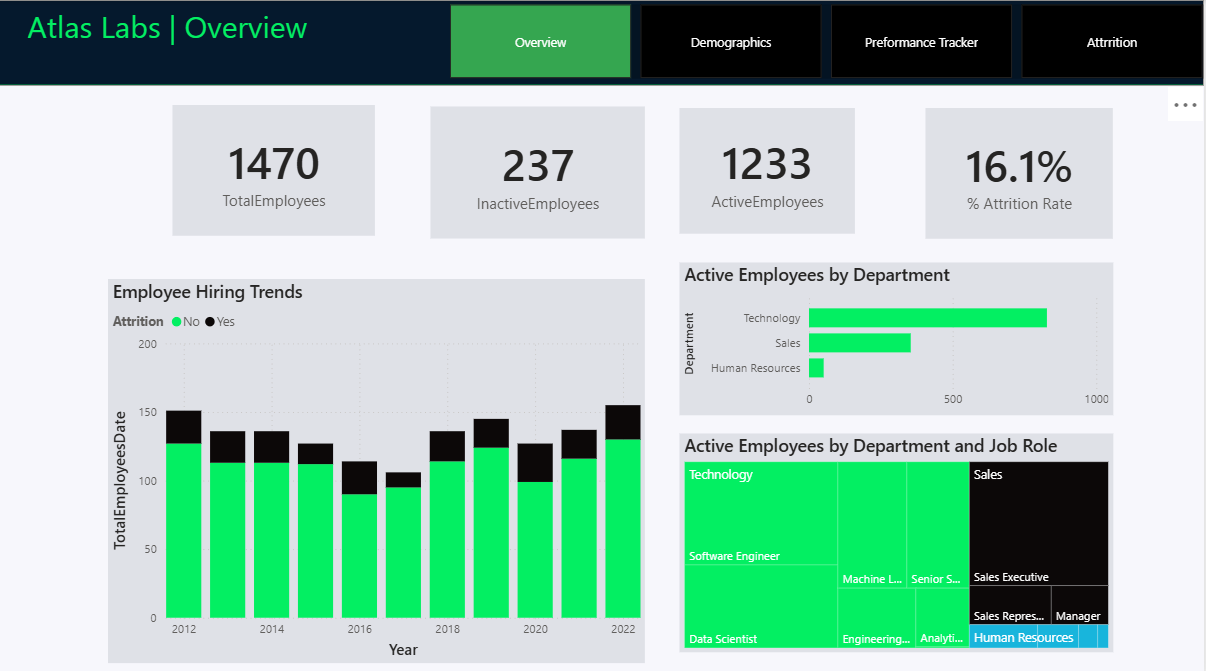

What the dashboard file says about the page in this screenshot:
{"tool":"powerbi","page":{"name":"Overview","canvas":[1280,720],"ordinal":0},"visuals":[{"type":"card","fields":{"Values":["__Measures.TotalEmployees"]},"box":[186.1,111.3,214.7,138.4],"z":0},{"type":"card","fields":{"Values":["__Measures.ActiveEmployees"]},"box":[723.7,114.5,186.1,133.6],"z":1000},{"type":"card","fields":{"Values":["__Measures.InactiveEmployees"]},"box":[459.7,112.9,227.5,140],"z":2000},{"type":"card","fields":{"Values":["__Measures.% Attrition Rate"]},"box":[984.6,114.5,198.8,138.4],"z":3000},{"type":"columnChart","title":"Employee Hiring Trends","fields":{"Category":["DimDate.Date.Variation.Date Hierarchy.Year","DimDate.Date.Variation.Date Hierarchy.Quarter","DimDate.Date.Variation.Date Hierarchy.Month","DimDate.Date.Variation.Date Hierarchy.Day"],"Y":["__Measures.TotalEmployeesDate"],"Series":["DimEmployee.Attrition"]},"box":[117.7,295.9,569.4,407.2],"z":4000},{"type":"barChart","title":"Active Employees by Department","fields":{"Category":["DimEmployee.Department"],"Y":["__Measures.ActiveEmployees"]},"box":[723.7,278.4,459.7,162.2],"z":5000},{"type":"treemap","title":"Active Employees by Department and Job Role","fields":{"Group":["DimEmployee.Department"],"Details":["DimEmployee.JobRole"],"Values":["__Measures.ActiveEmployees"]},"box":[723.7,459.7,459.7,232.2],"z":6000},{"type":"shape","box":[0,0,1280.4,90.7],"z":7000},{"type":"textbox","box":[27,0,373.8,90.7],"z":8000},{"type":"pageNavigator","box":[480,4.1,800,79],"z":8001}]}

Visuals, with their boxes in screenshot pixels (x1, y1, x2, y2), scaled from the page's 1280x720 canvas onto the 1206x671 screenshot:
card - __Measures.TotalEmployees: l=175, t=104, r=378, b=233
card - __Measures.ActiveEmployees: l=682, t=107, r=857, b=231
card - __Measures.InactiveEmployees: l=433, t=105, r=647, b=236
card - __Measures.% Attrition Rate: l=928, t=107, r=1115, b=236
"Employee Hiring Trends" columnChart: l=111, t=276, r=647, b=655
"Active Employees by Department" barChart: l=682, t=259, r=1115, b=411
"Active Employees by Department and Job Role" treemap: l=682, t=428, r=1115, b=645
shape: l=0, t=0, r=1205, b=85
textbox: l=25, t=0, r=378, b=85
pageNavigator: l=452, t=4, r=1205, b=77
